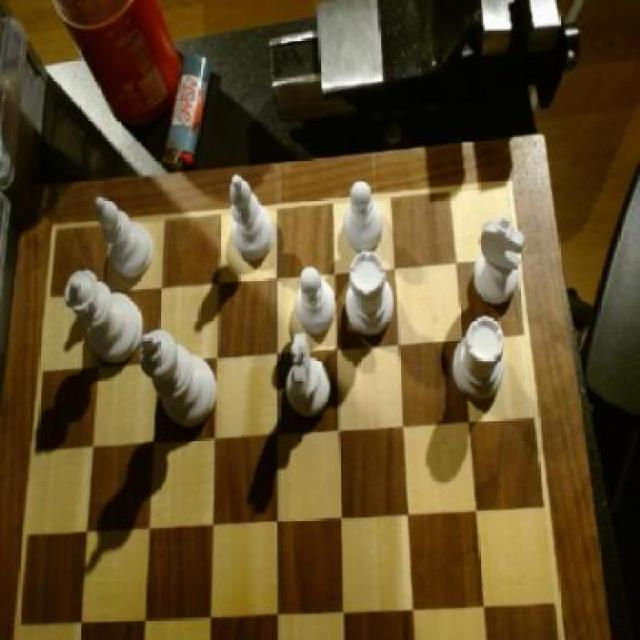black-rook: (89, 194, 157, 285), (222, 172, 278, 268)
white-bishop: (138, 328, 225, 429)
white-king: (469, 217, 534, 318), (280, 331, 335, 422)
white-knight: (340, 178, 391, 258), (292, 263, 341, 338)
white-pawn: (65, 269, 147, 365)
white-queen: (452, 307, 508, 408), (343, 252, 401, 336)
